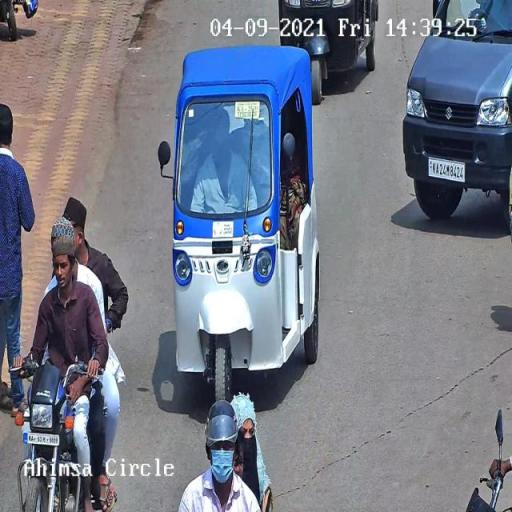tripple riding: (26, 196, 129, 374)
